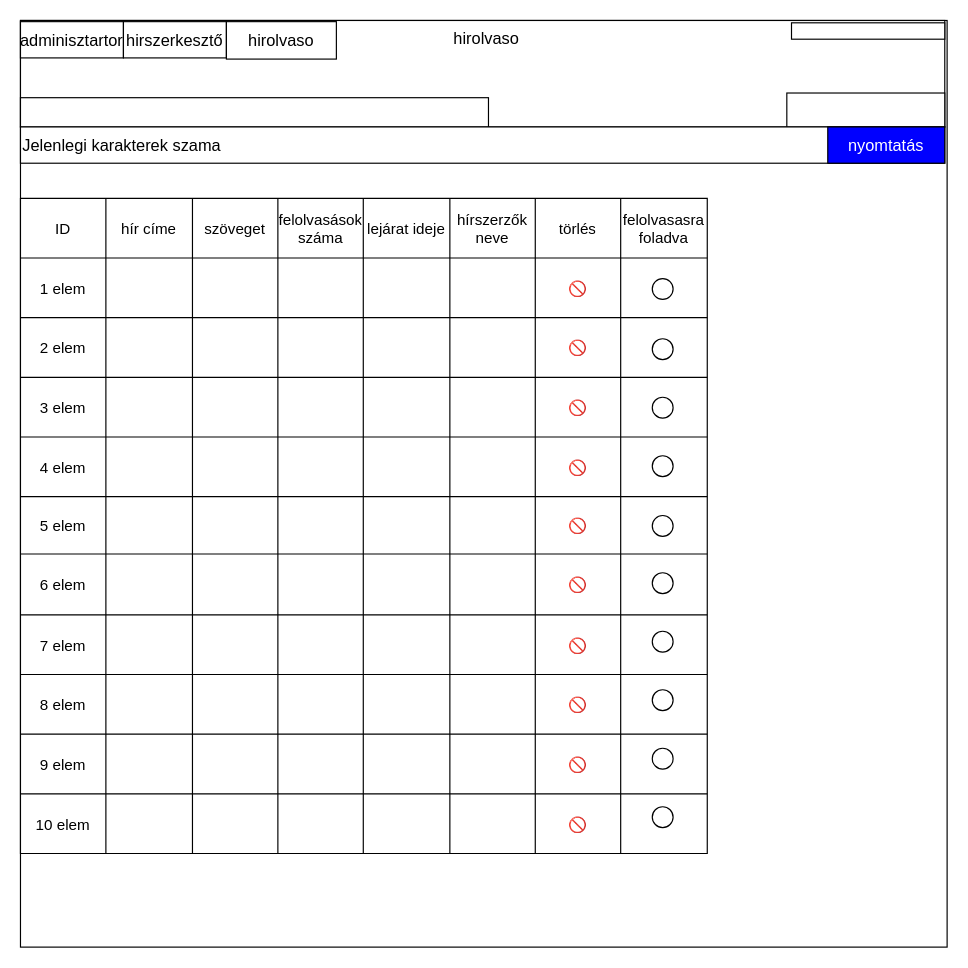
Some shapes in this 968 by 968 pixel diagram are drawn without their labels. Here are the shapes that lost their labels. From the top down, the centre of each, then its label:
At point 867,30: "log out".
At point 253,112: "Menü pontok".
At point 865,109: "Search".
